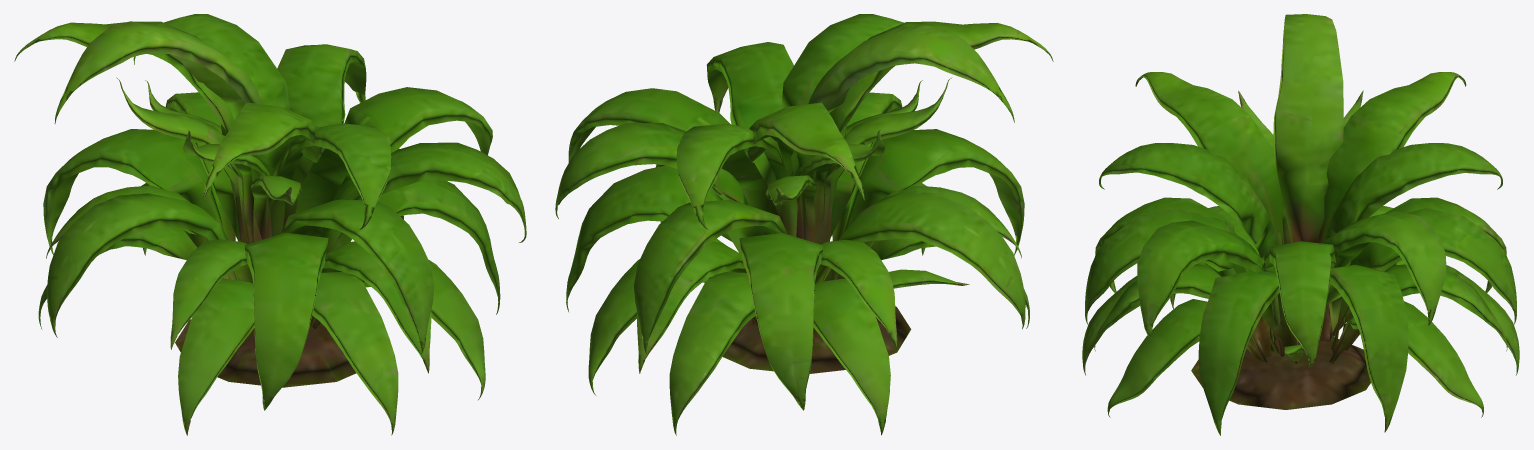
The model's file is fernplant.lite.glb.
3 renders of one model, left to right at view 1: azimuth 30°, elevation 25°; view 2: azimuth 150°, elevation 25°; view 3: azimuth 270°, elevation 25°, orthographic. The views are drawn at different scales.
Parts seen in each view (by area): view 1: model; view 2: model; view 3: model.
Part boxes in pixels (x1,y1,x2,y2): model: [14, 14, 526, 435]; model: [555, 14, 1053, 435]; model: [1082, 14, 1519, 435].
Size of the model in its own units: 0.9995 by 0.7397 by 0.9761.
2 materials, 2 textured.
